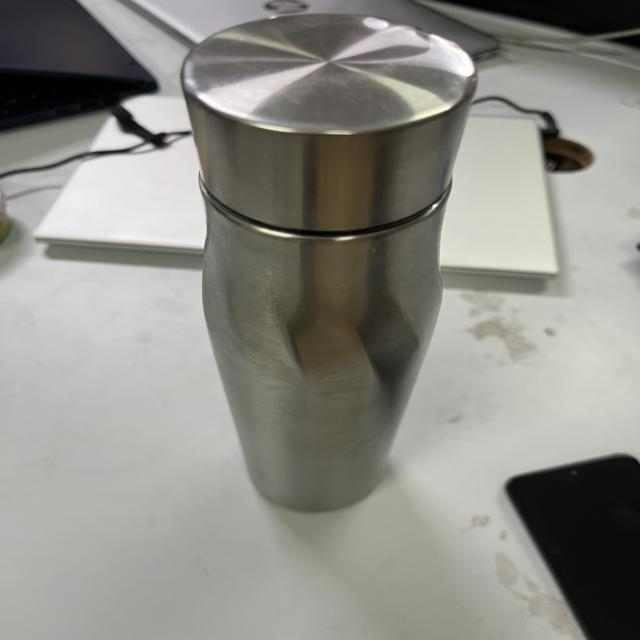L3: (176, 0, 485, 518)
